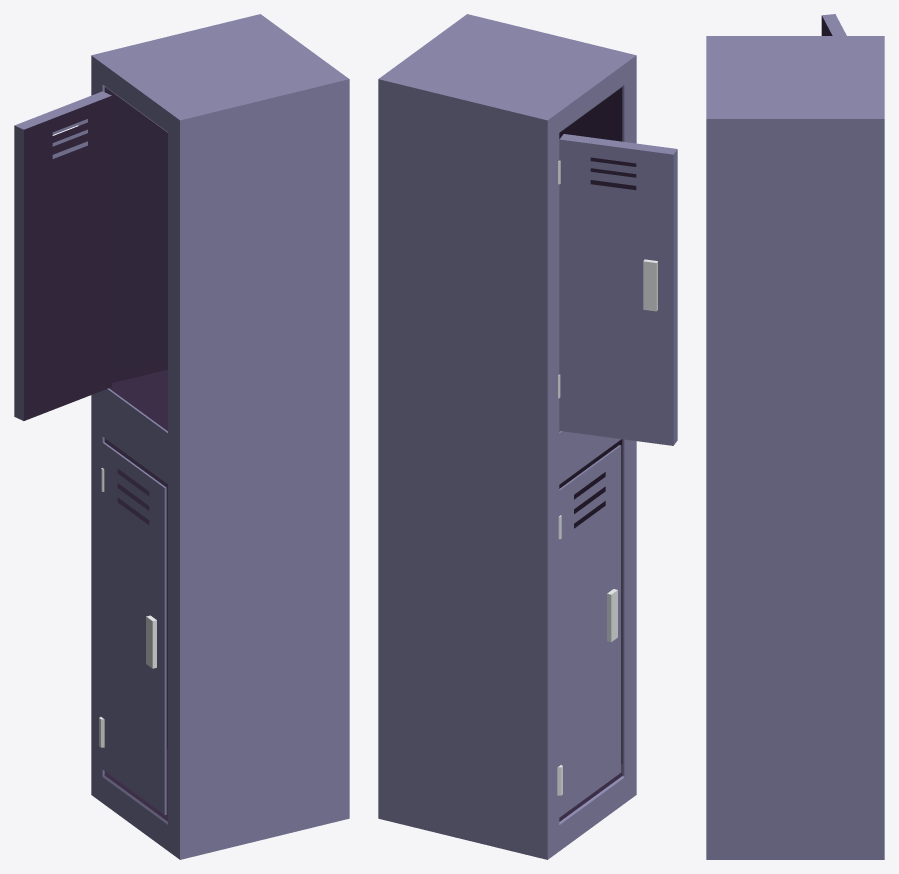
The model's file is armario_aberto.fbx.
3 views of the same model, side by side, from view 1: azimuth 30°, elevation 25°; view 2: azimuth 150°, elevation 25°; view 3: azimuth 270°, elevation 25° (orthographic).
Visible parts, largest first — view 1: Armário_aberto; view 2: Armário_aberto; view 3: Armário_aberto.
Boxes of the visible parts, bbox=[...] form: Armário_aberto: bbox=[14, 14, 349, 859]; Armário_aberto: bbox=[378, 14, 677, 859]; Armário_aberto: bbox=[706, 14, 884, 859].
Bounding box in the file's own units: 101 × 264 × 57.49.
